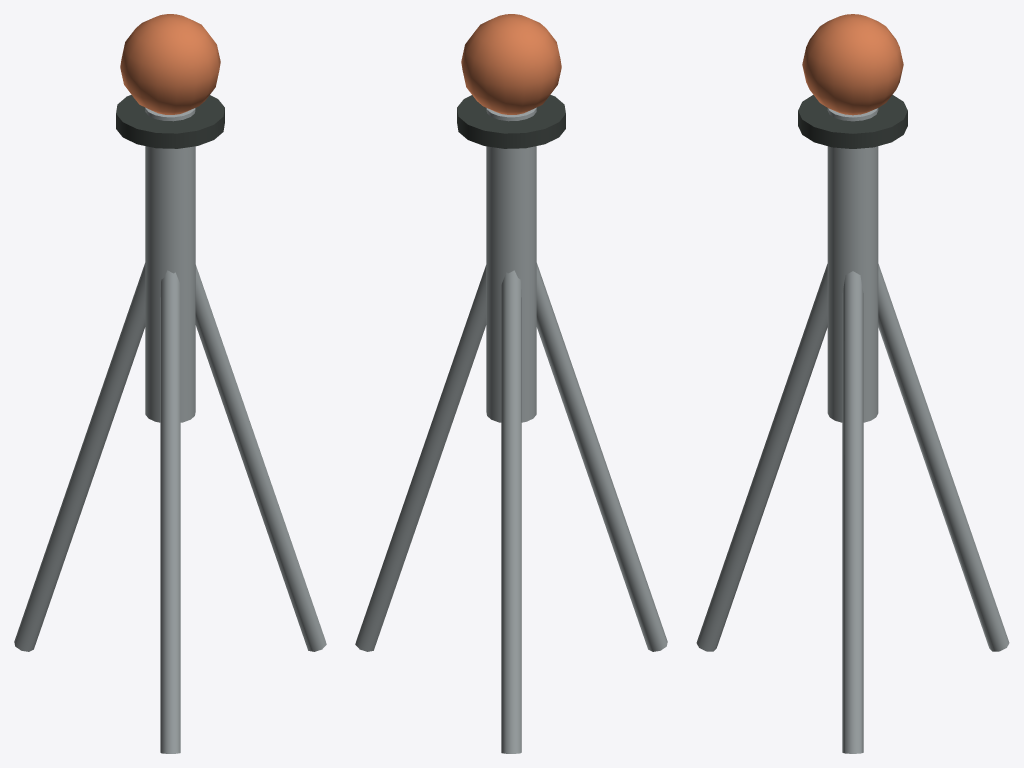
File: flooded-and-coastal-survival-flood-beacon-tripod-bf1e0b33__20087.glb
The picture shows the model from 3 angles, left to right: view 1: azimuth 30°, elevation 25°; view 2: azimuth 150°, elevation 25°; view 3: azimuth 270°, elevation 25°; orthographic projection.
Parts seen in each view (by area): view 1: flood-beacon-tripod; view 2: flood-beacon-tripod; view 3: flood-beacon-tripod.
Boxes of the visible parts, x1=… form: flood-beacon-tripod: x1=14, y1=14, x2=326, y2=753; flood-beacon-tripod: x1=355, y1=14, x2=667, y2=753; flood-beacon-tripod: x1=696, y1=14, x2=1009, y2=753.
Size of the model in its own units: 0.6484 by 1.74 by 0.7408.
